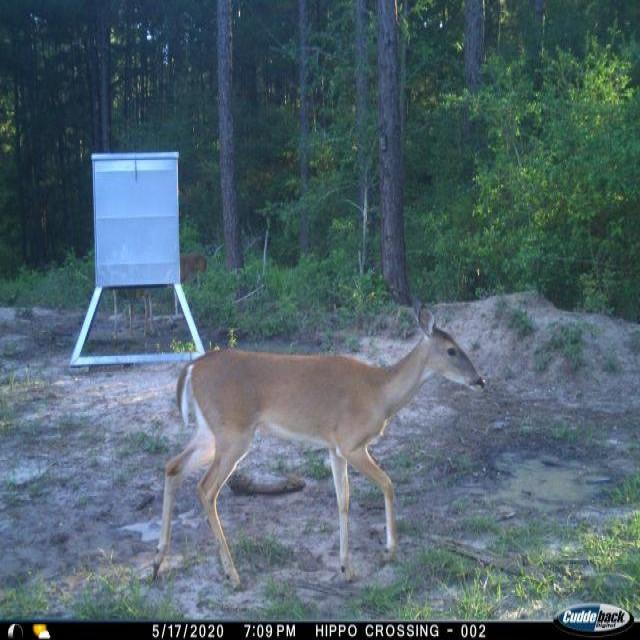deer: (154, 293, 488, 594), (110, 287, 160, 345), (180, 246, 210, 294)
